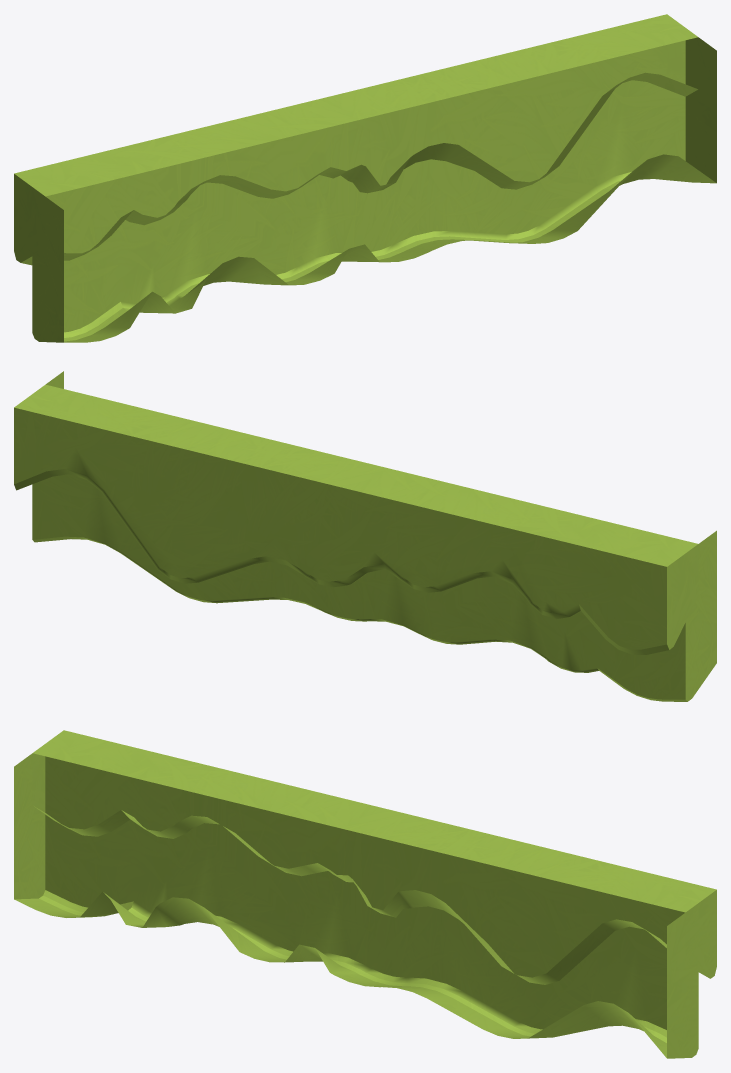
The model's file is Side Level.fbx.
3 renders of one model, top to bottom at view 1: azimuth 30°, elevation 25°; view 2: azimuth 150°, elevation 25°; view 3: azimuth 330°, elevation 25°, orthographic.
Parts seen in each view (by area): view 1: polySurface58, polySurface56; view 2: polySurface56, polySurface58; view 3: polySurface58, polySurface56.
Part boxes in pixels (x1,y1,x2,y2): polySurface58: (32, 37, 716, 342); polySurface56: (14, 14, 697, 265); polySurface56: (14, 384, 698, 654); polySurface58: (32, 371, 716, 701); polySurface58: (14, 753, 698, 1058); polySurface56: (32, 730, 716, 984).
Size of the model in its own units: 1200 by 296 by 159.
